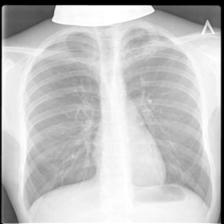tuberculosis: (17, 26, 216, 213)
